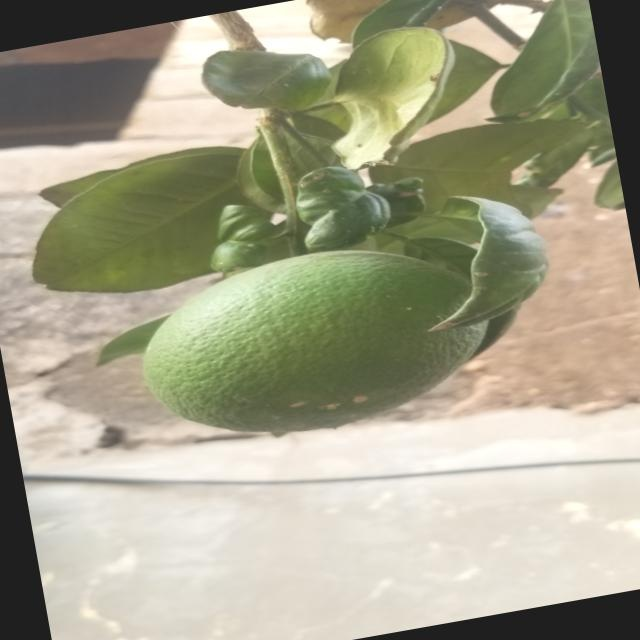agrume: (142, 226, 514, 466)
